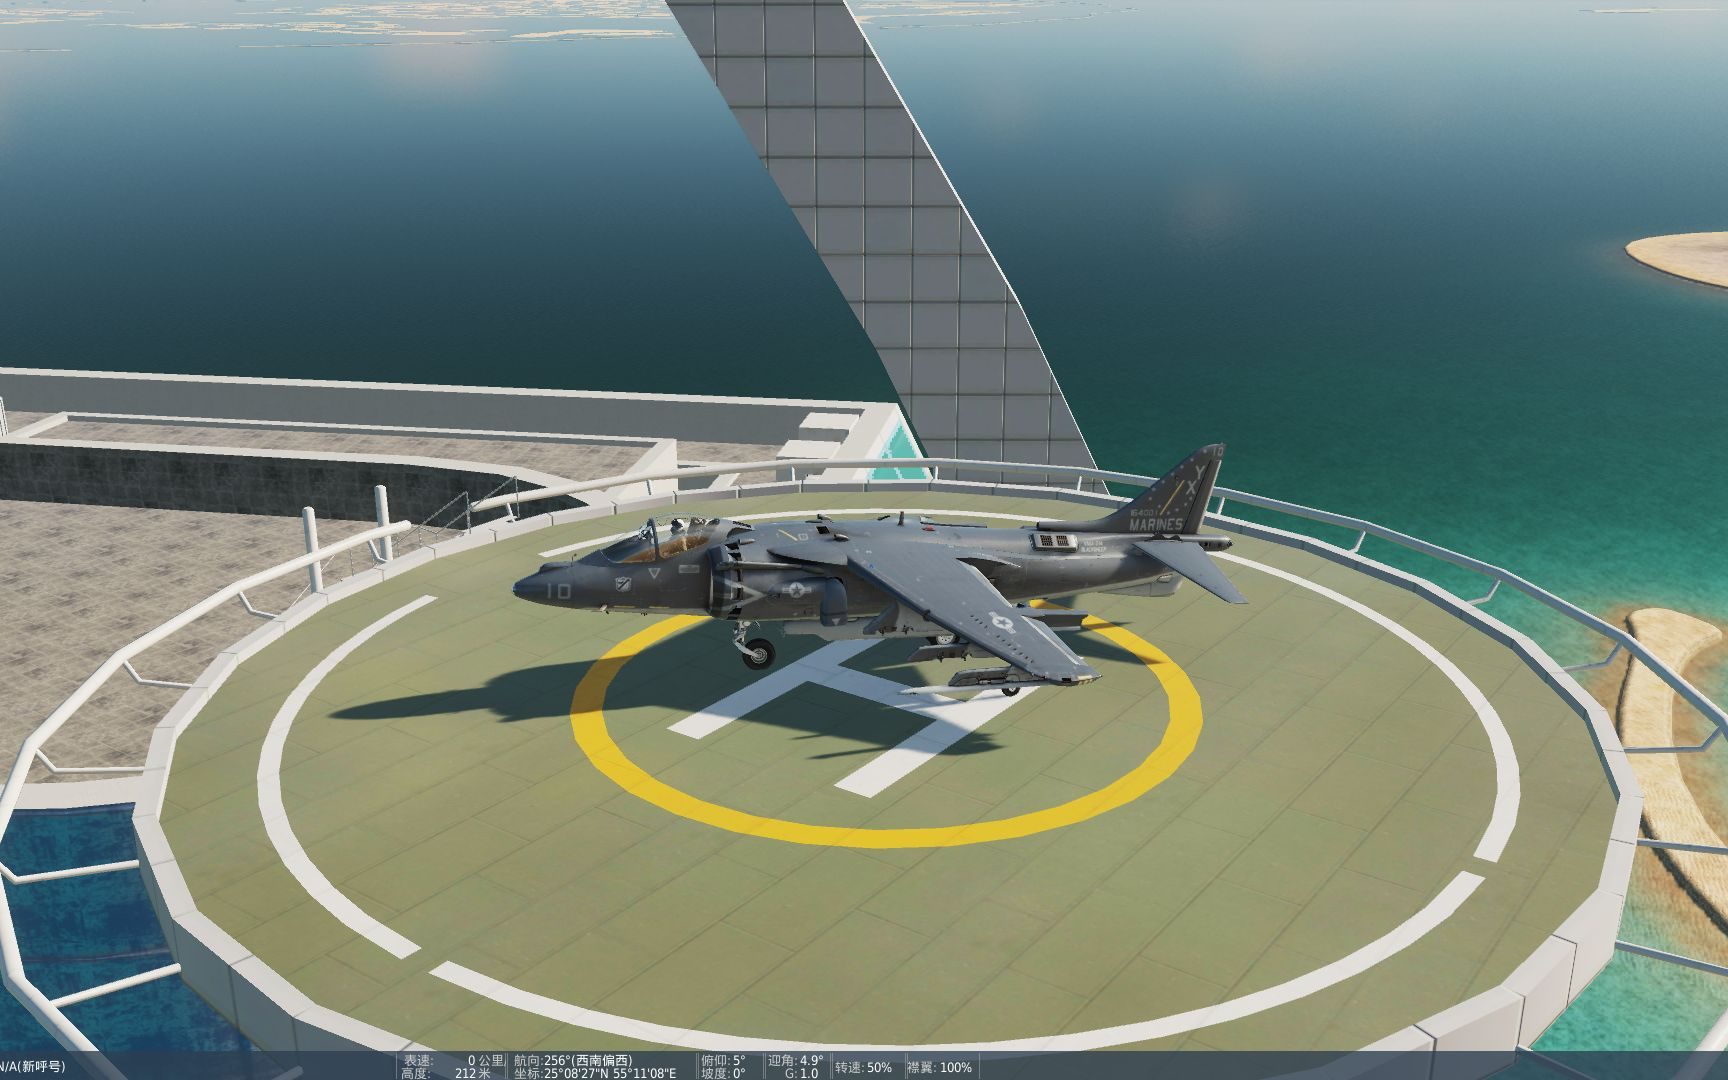H: (666, 632, 1040, 801)
